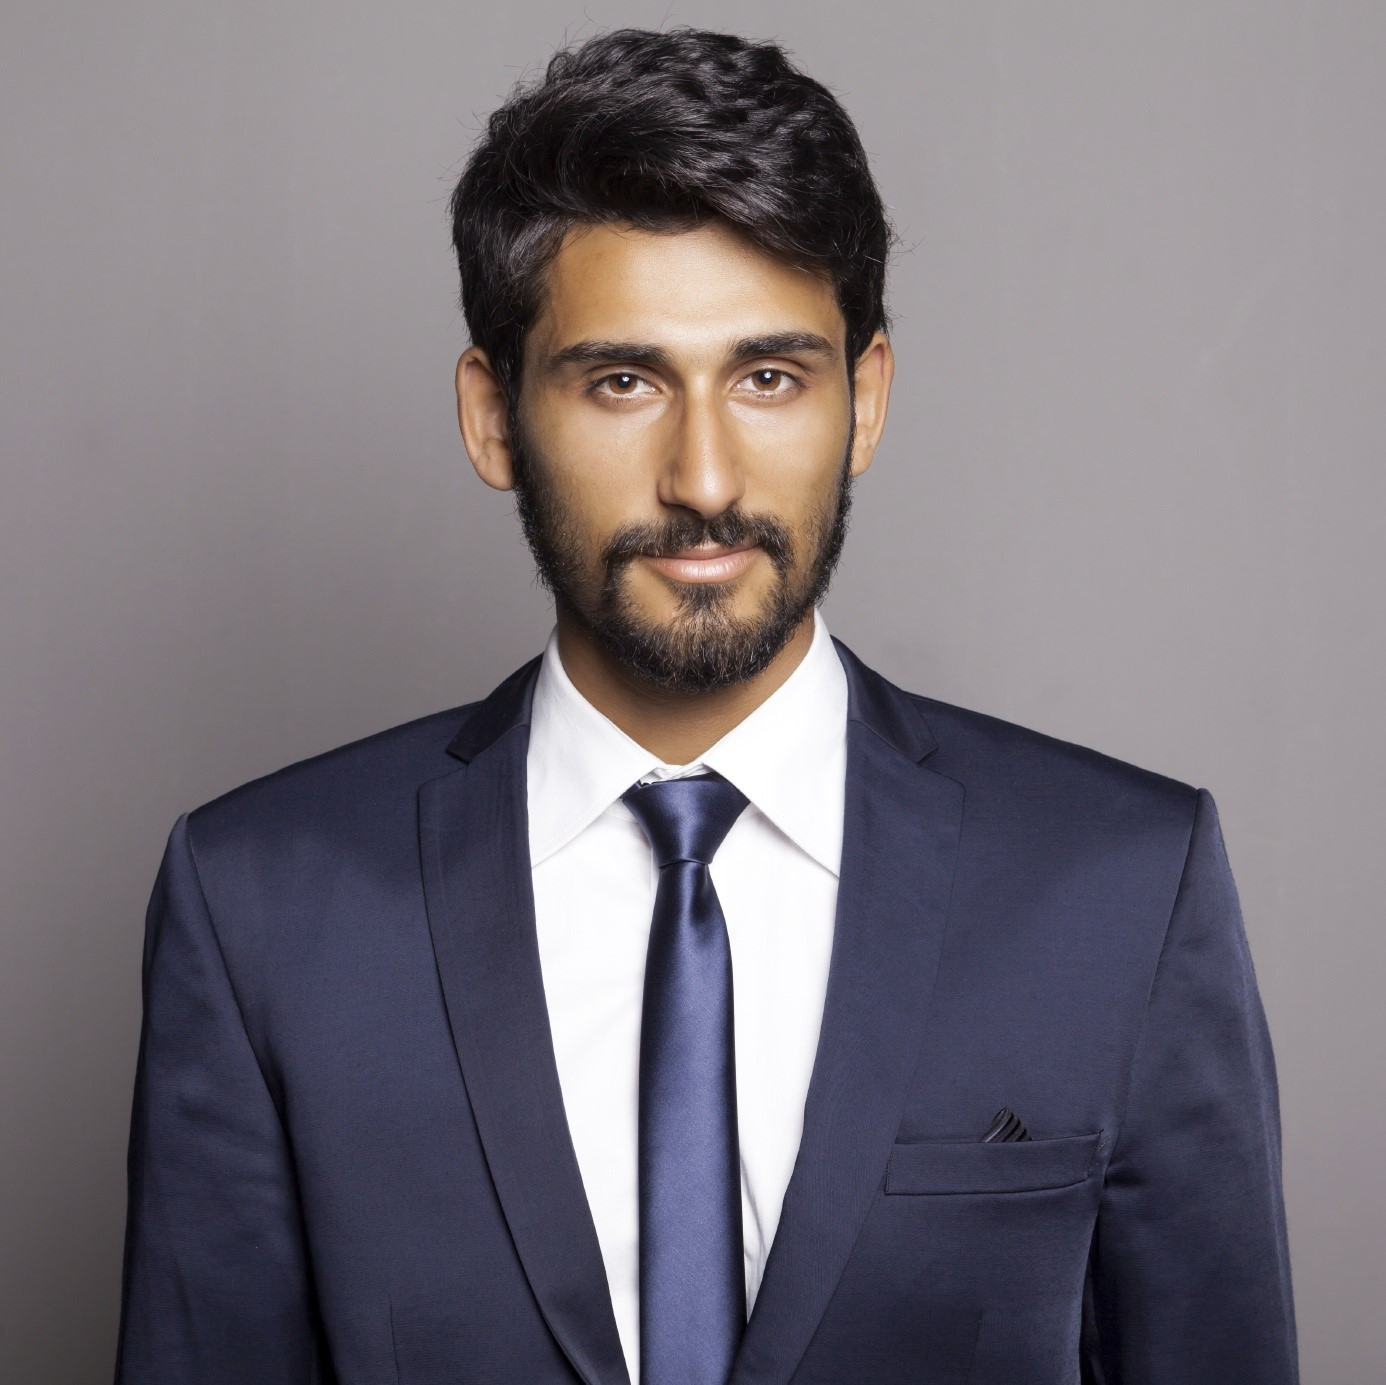face_no_mask: (451, 186, 895, 697)
